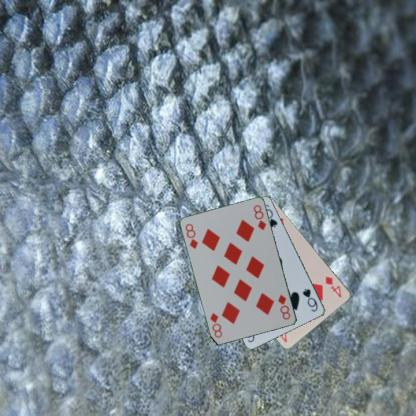4d: (323, 273, 343, 299)
6s: (300, 286, 319, 313)
8d: (275, 292, 292, 322), (182, 221, 199, 250)
